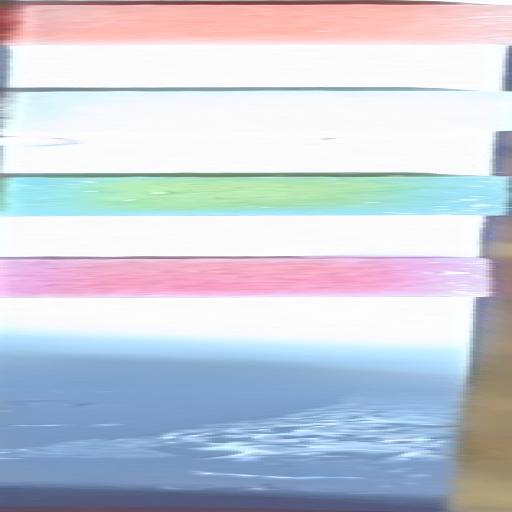pads: (0, 86, 512, 133), (0, 0, 512, 46), (0, 172, 512, 217), (0, 257, 512, 298)
